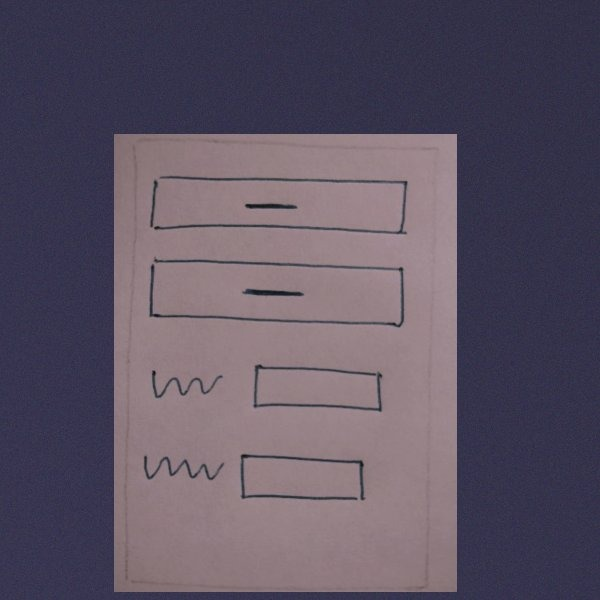button: (145, 252, 413, 329), (147, 169, 415, 242)
text: (145, 357, 227, 415), (141, 445, 226, 491)
text_input: (235, 442, 381, 513), (245, 354, 390, 425)
